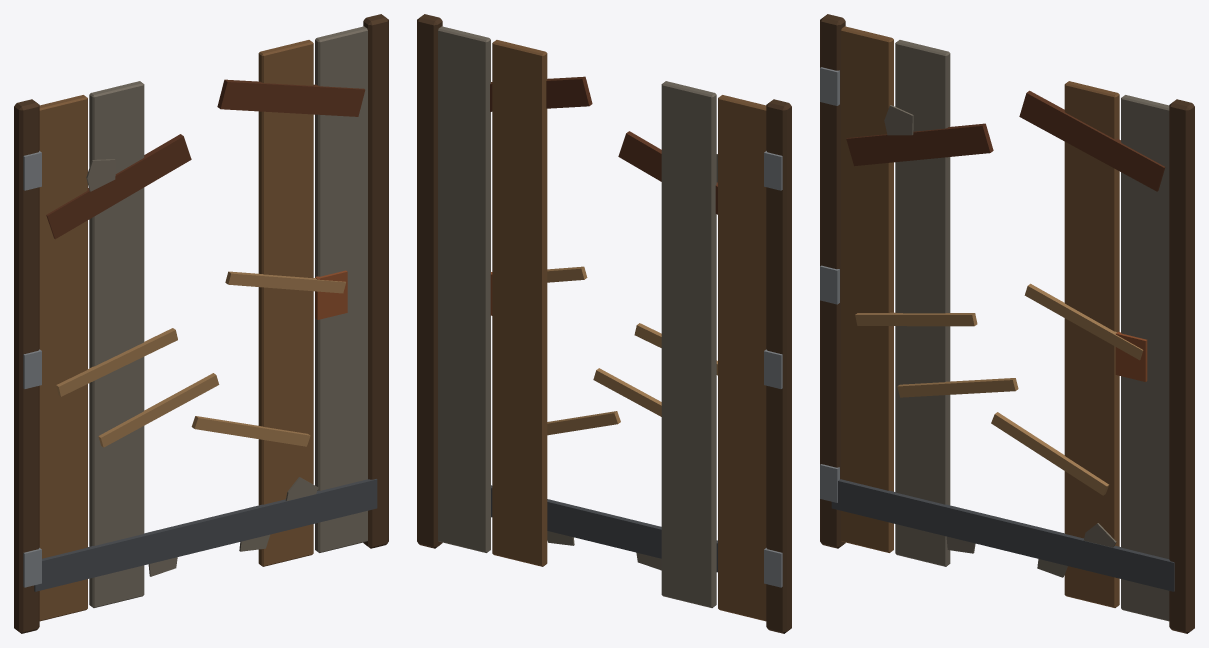
File: piece_door_wood_critical.fbx
The picture shows the model from 3 angles, left to right: view 1: azimuth 30°, elevation 25°; view 2: azimuth 150°, elevation 25°; view 3: azimuth 330°, elevation 25°; orthographic projection.
Visible parts, largest first — view 1: piece_door_wood_critical; view 2: piece_door_wood_critical; view 3: piece_door_wood_critical.
Boxes of the visible parts, box(x1,y1,x2,y2) form: piece_door_wood_critical: box(14, 14, 388, 633); piece_door_wood_critical: box(417, 14, 791, 633); piece_door_wood_critical: box(820, 14, 1194, 633).
Size of the model in its own units: 1.6 by 2.18 by 0.08.
